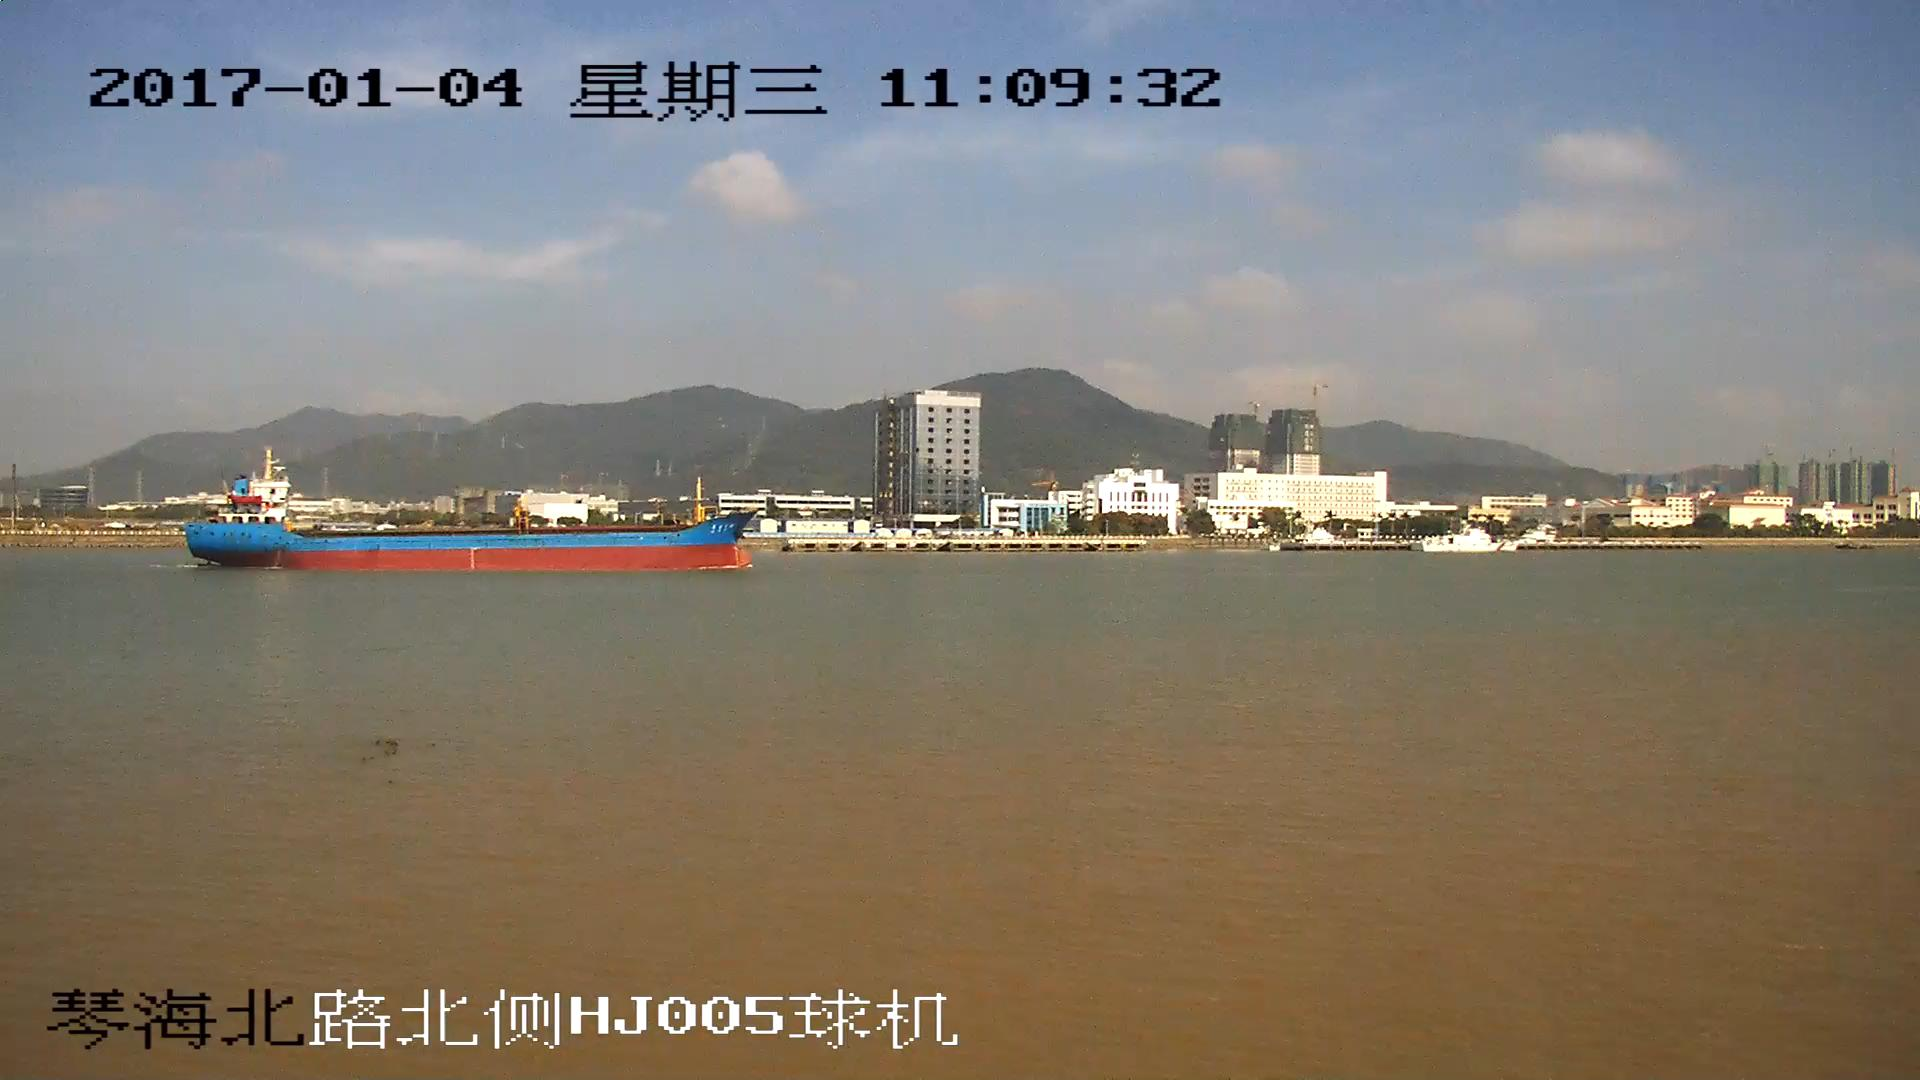general cargo ship: (188, 453, 758, 576)
